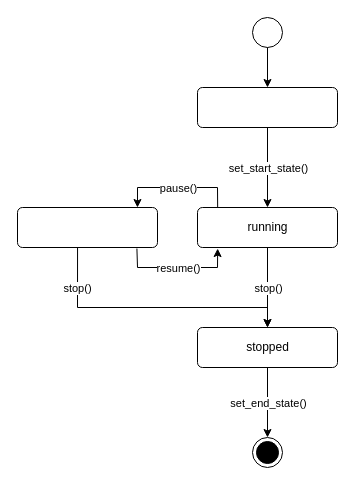
Some shapes in this 355 by 485 pixel diagram are drawn without their labels. Here are the shapes that lost their labels. From the top down, the centre of each, then its label:
At (x=267, y=107): "initial".
At (x=87, y=227): "paused".
